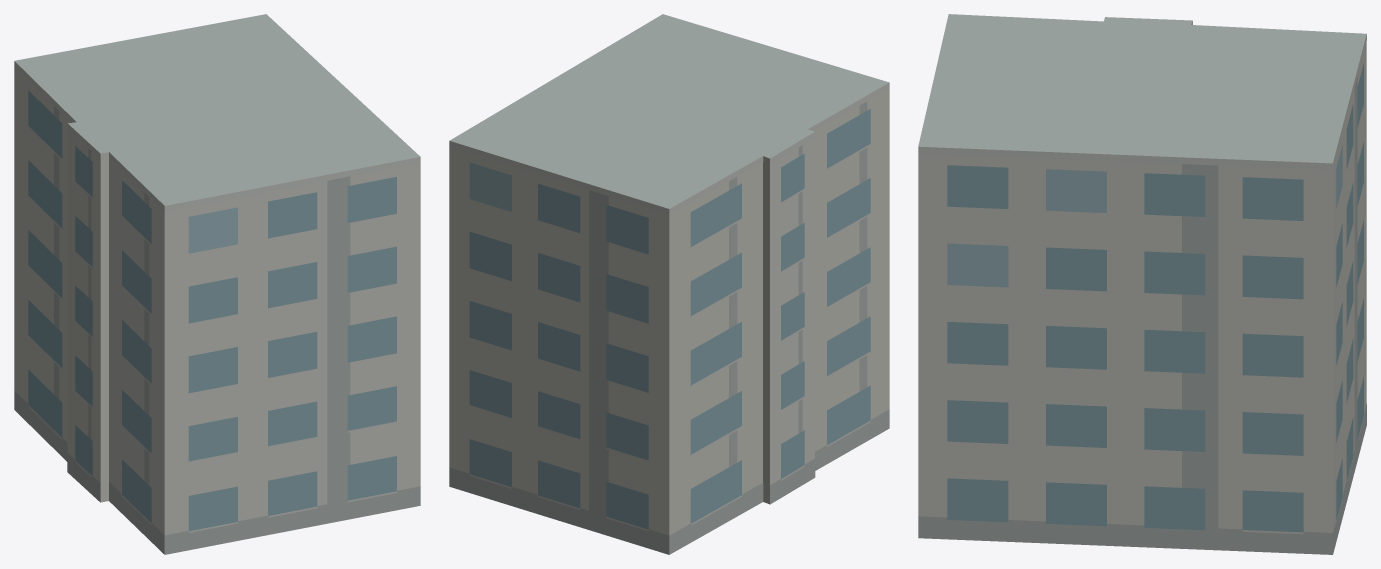
The model's file is survey-upis-32566634.glb.
3 renders of one model, left to right at view 1: azimuth 30°, elevation 25°; view 2: azimuth 150°, elevation 25°; view 3: azimuth 270°, elevation 25°, orthographic. The views are drawn at different scales.
Parts seen in each view (by area): view 1: survey-upis-32566634.tmp; view 2: survey-upis-32566634.tmp; view 3: survey-upis-32566634.tmp.
Part boxes in pixels (x1=…): survey-upis-32566634.tmp: x1=14, y1=14, x2=420, y2=554; survey-upis-32566634.tmp: x1=449, y1=14, x2=889, y2=554; survey-upis-32566634.tmp: x1=918, y1=14, x2=1366, y2=554.
Bounding box in the file's own units: 11.63 × 14.2 × 14.76.
